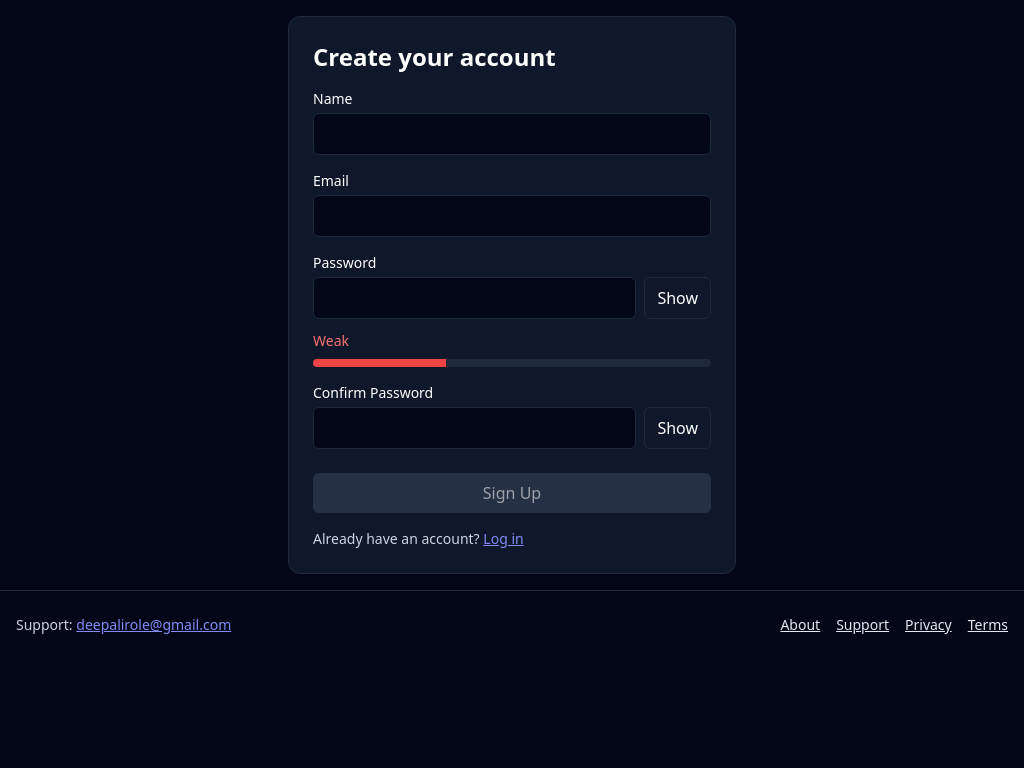
Test: Auth pages › TEST 8.2 — Password strength indicator shows correct levels
This screenshot has width=1024, height=768.
In the password field labelled "Password": (475, 298) [313, 277, 636, 319], type "abc"
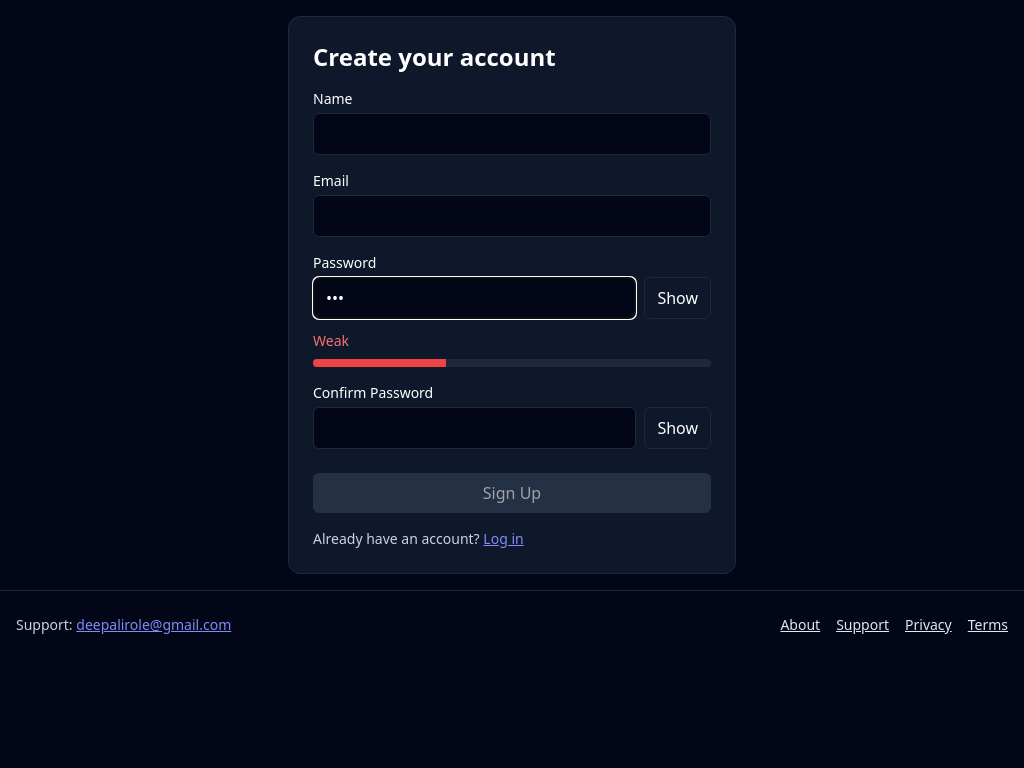
Expected: the text "Weak" is shown, [313, 331, 349, 350]
In the password field labelled "Password": (475, 298) [313, 277, 636, 319], type "Password1"
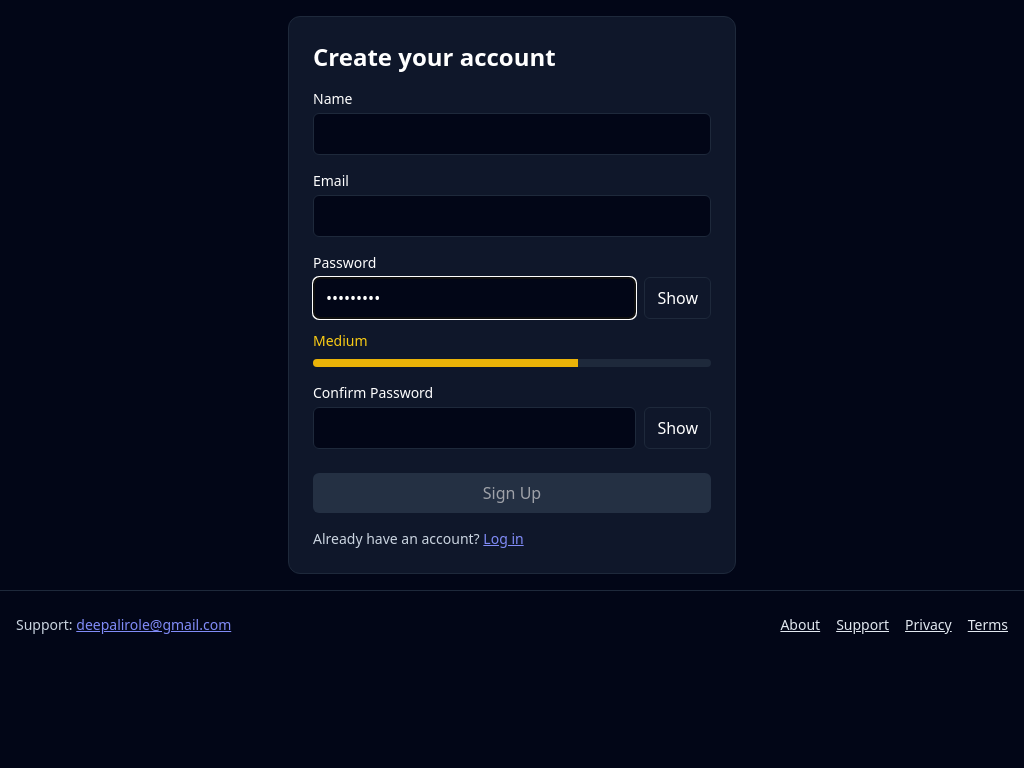
Now the text "Medium" is shown, box [313, 331, 368, 350]
In the password field labelled "Password": (475, 298) [313, 277, 636, 319], type "SecureP@ss1"
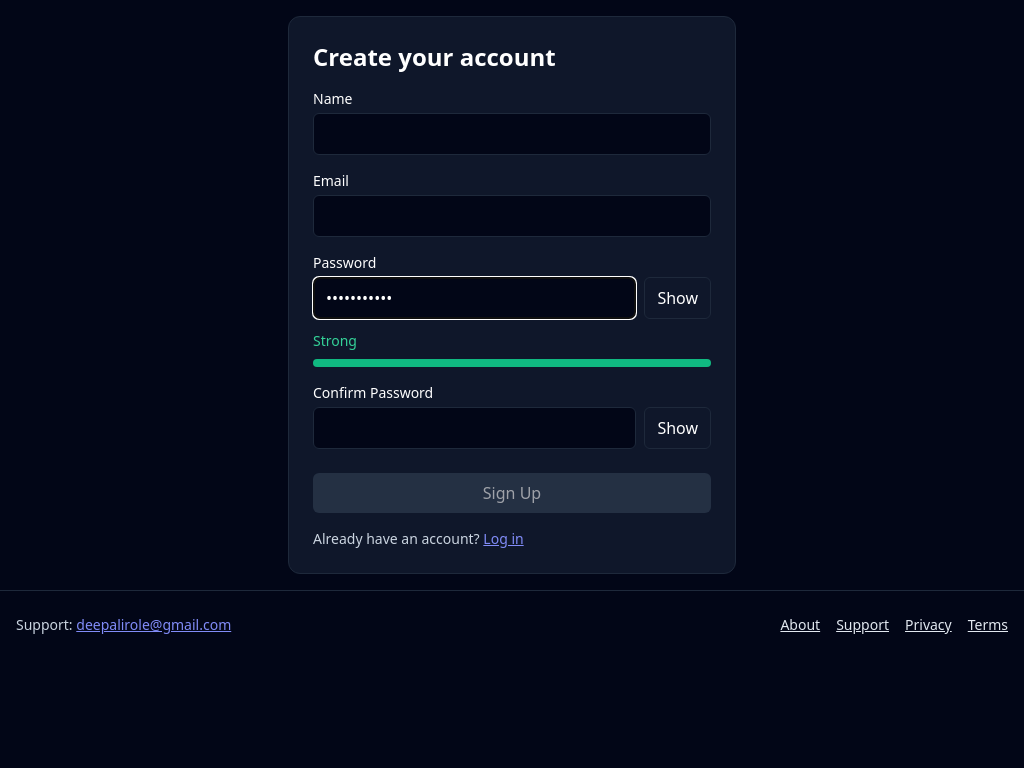
Now the text "Strong" is shown, box [313, 331, 357, 350]
